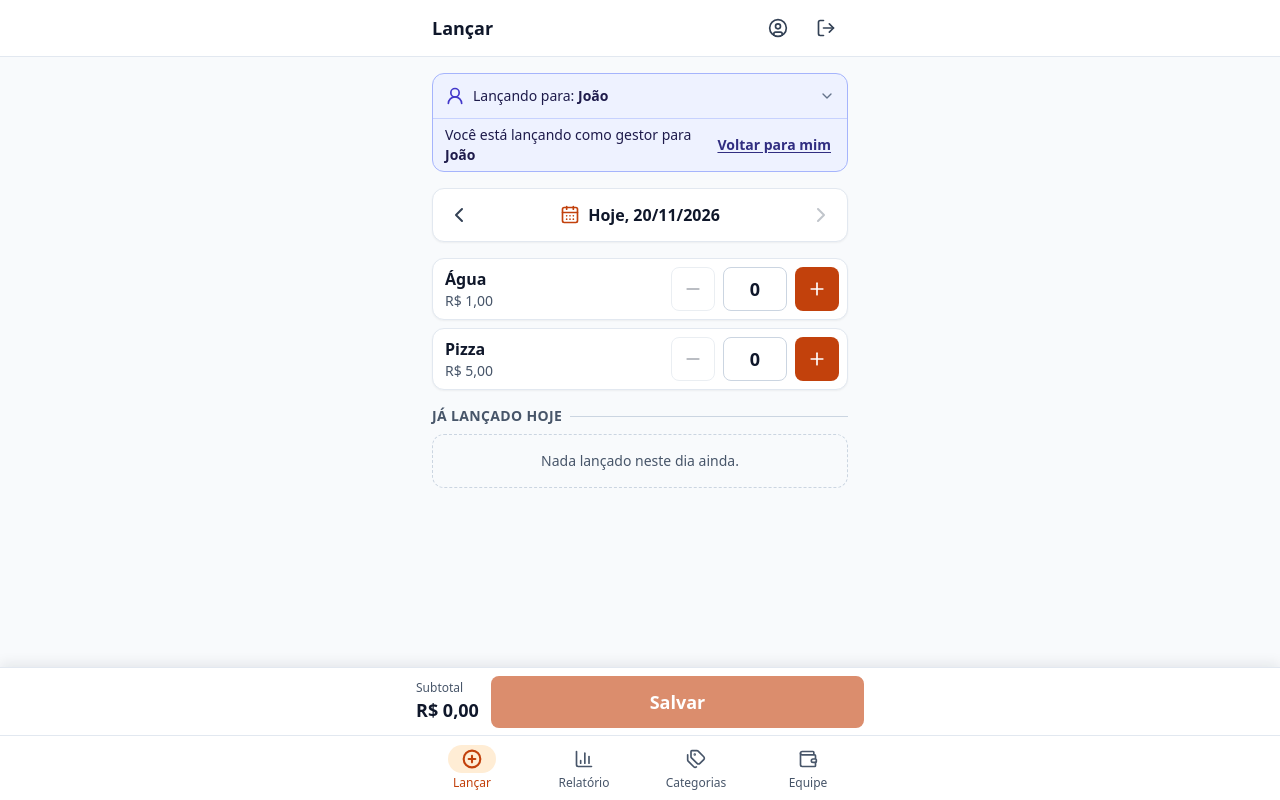
Test: gestor lança, ajusta categorias e vê relatório de outro atendente › faixa do gestor e faixa da data convivem
This screenshot has width=1280, height=800.
expect the field named "Pizza" in the row of "Pizza" is shown: met, box [723, 337, 787, 381]
Click the button named "Dia anterior" at x=459, y=215, box [437, 193, 481, 237]
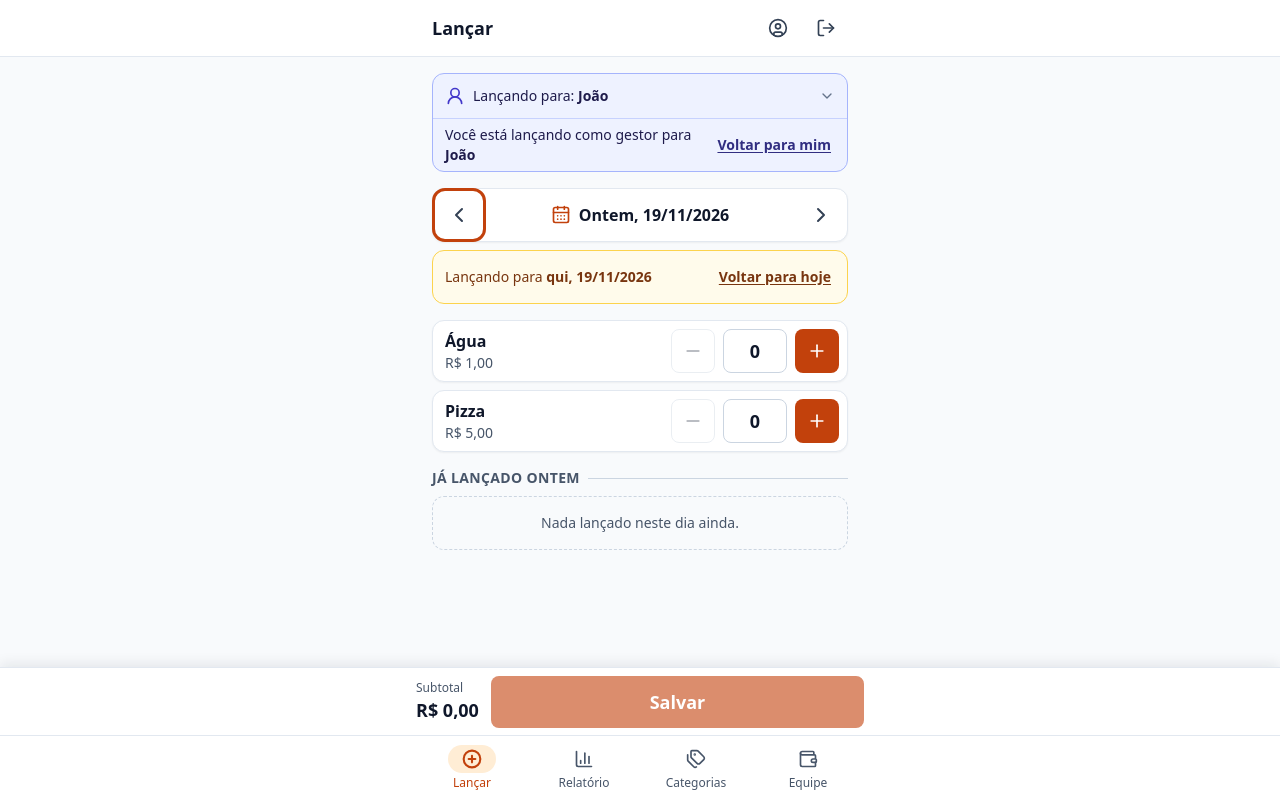
Click the button "Voltar para mim" at x=774, y=145, box [706, 123, 843, 167]
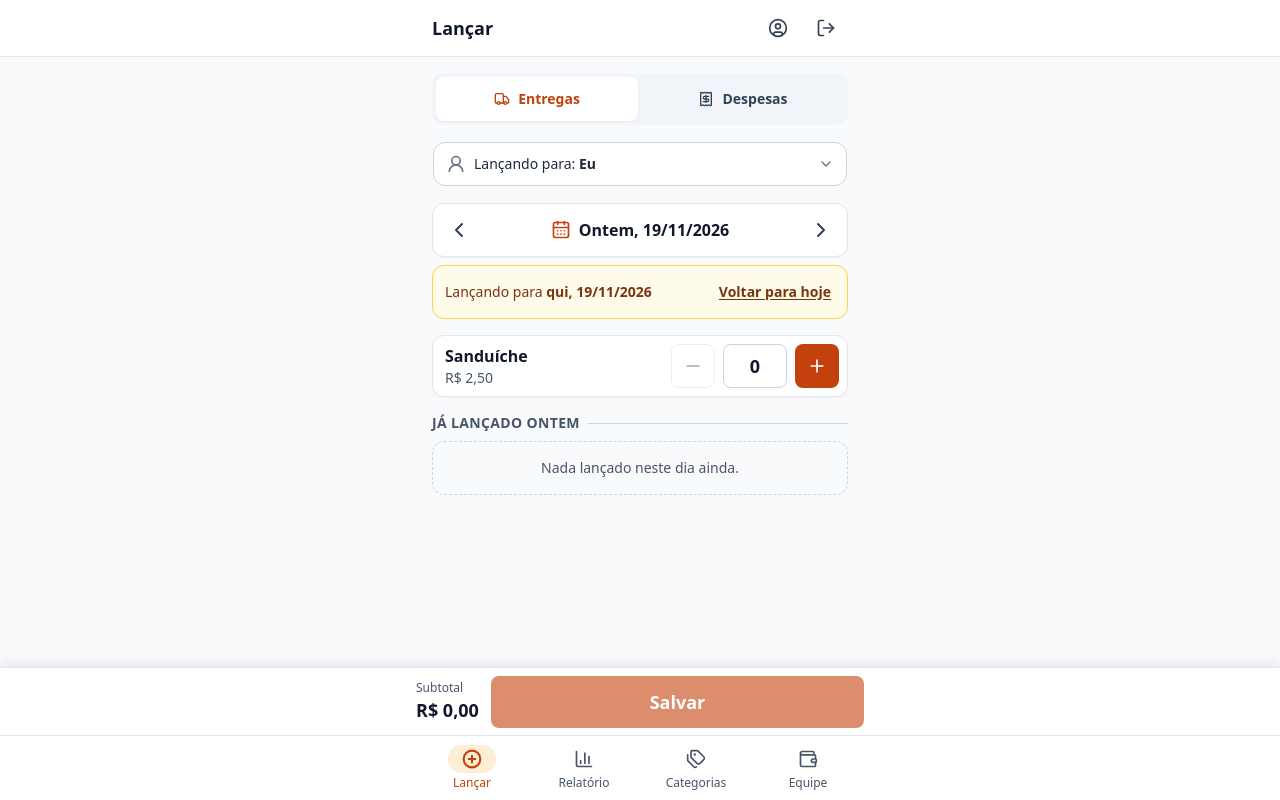
expect the field named "Sanduíche" is shown: met, box [723, 344, 787, 388]
